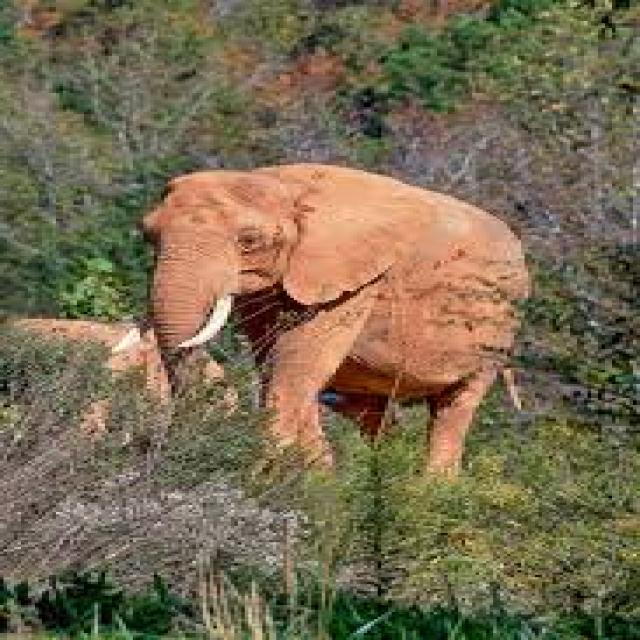Elephant: (136, 161, 532, 488)
